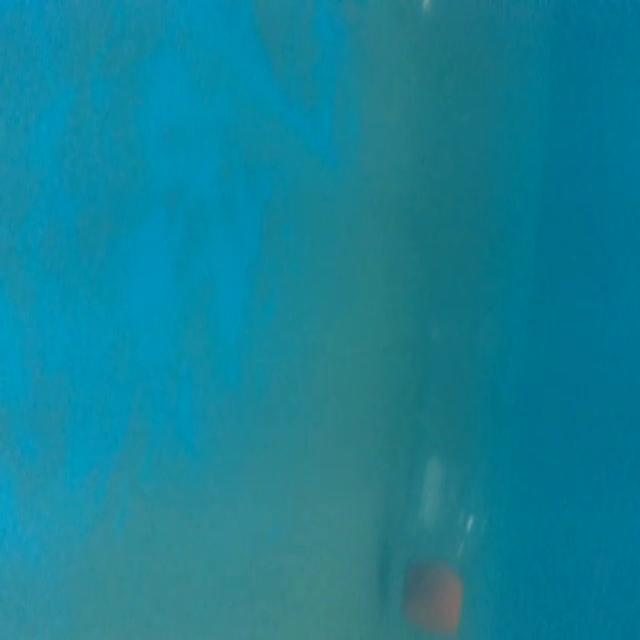plastic bottle: (399, 185, 539, 640)
